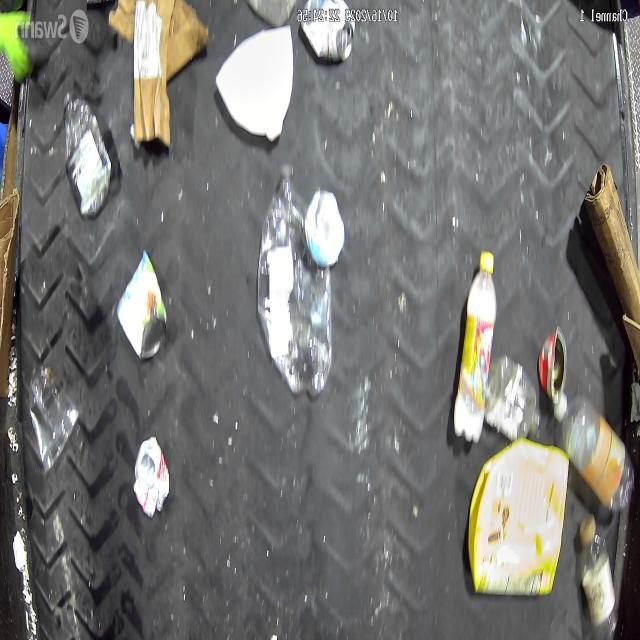can: (114, 252, 167, 362), (300, 0, 356, 61), (134, 439, 170, 517), (539, 327, 568, 416)
non_white_jug: (466, 439, 564, 599)
plastic_bottle: (257, 168, 330, 396), (556, 390, 634, 517), (454, 251, 497, 444), (63, 91, 114, 218), (574, 510, 621, 637)
